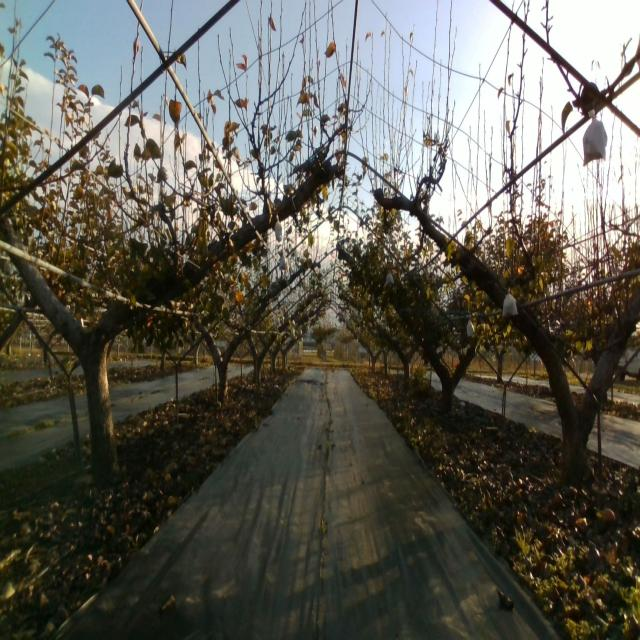pearbags: (582, 108, 608, 166), (501, 286, 518, 318)
